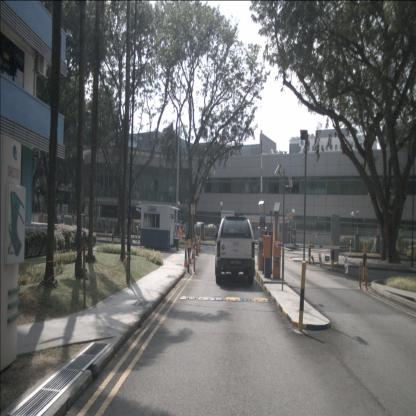movable_object-trafficcone: (191, 244, 195, 259), (189, 246, 192, 265), (194, 242, 198, 256), (198, 242, 200, 254)
vehicle-car: (215, 216, 255, 284), (193, 222, 208, 235), (174, 220, 186, 233), (206, 224, 216, 233)
